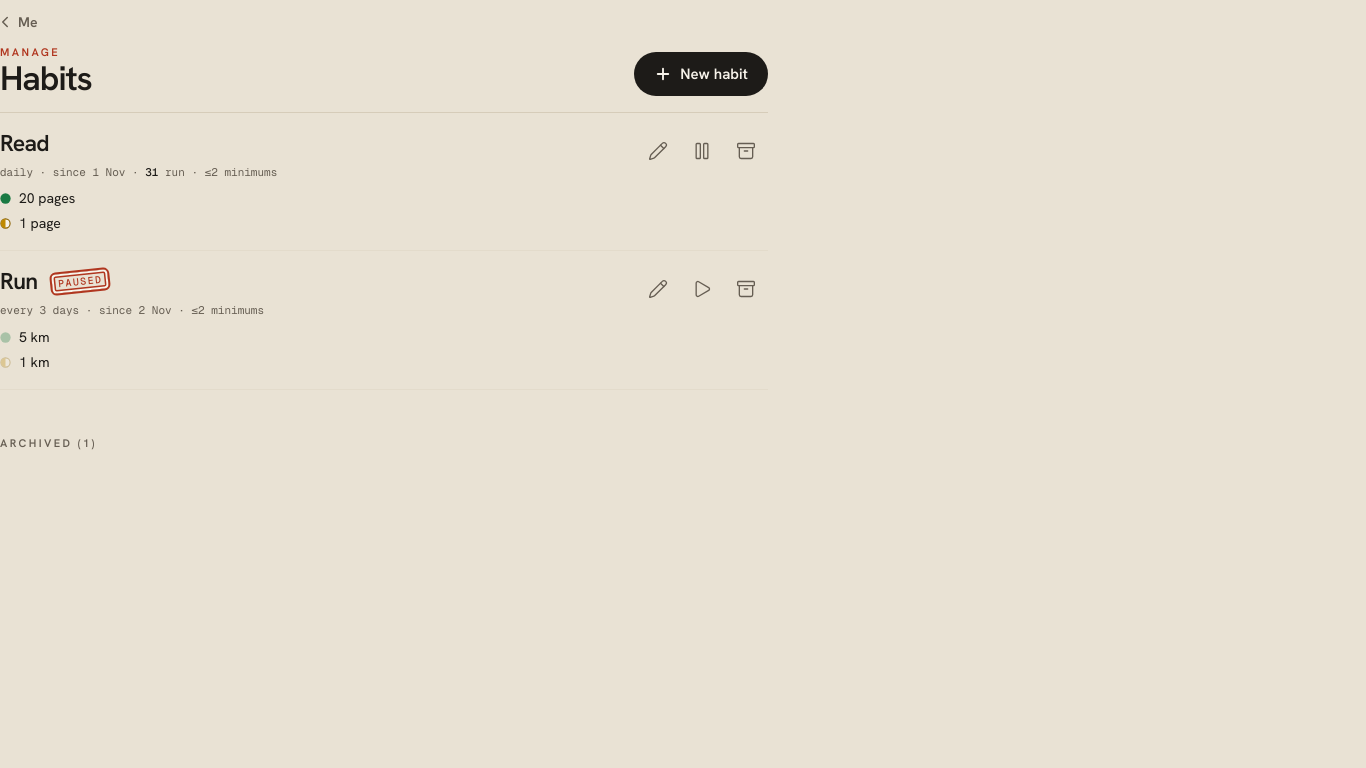
Test: HabitsPage › opens New habit in a sheet that Escape closes, handing focus back
Click the button "New habit": point(701, 74) [634,52,768,96]
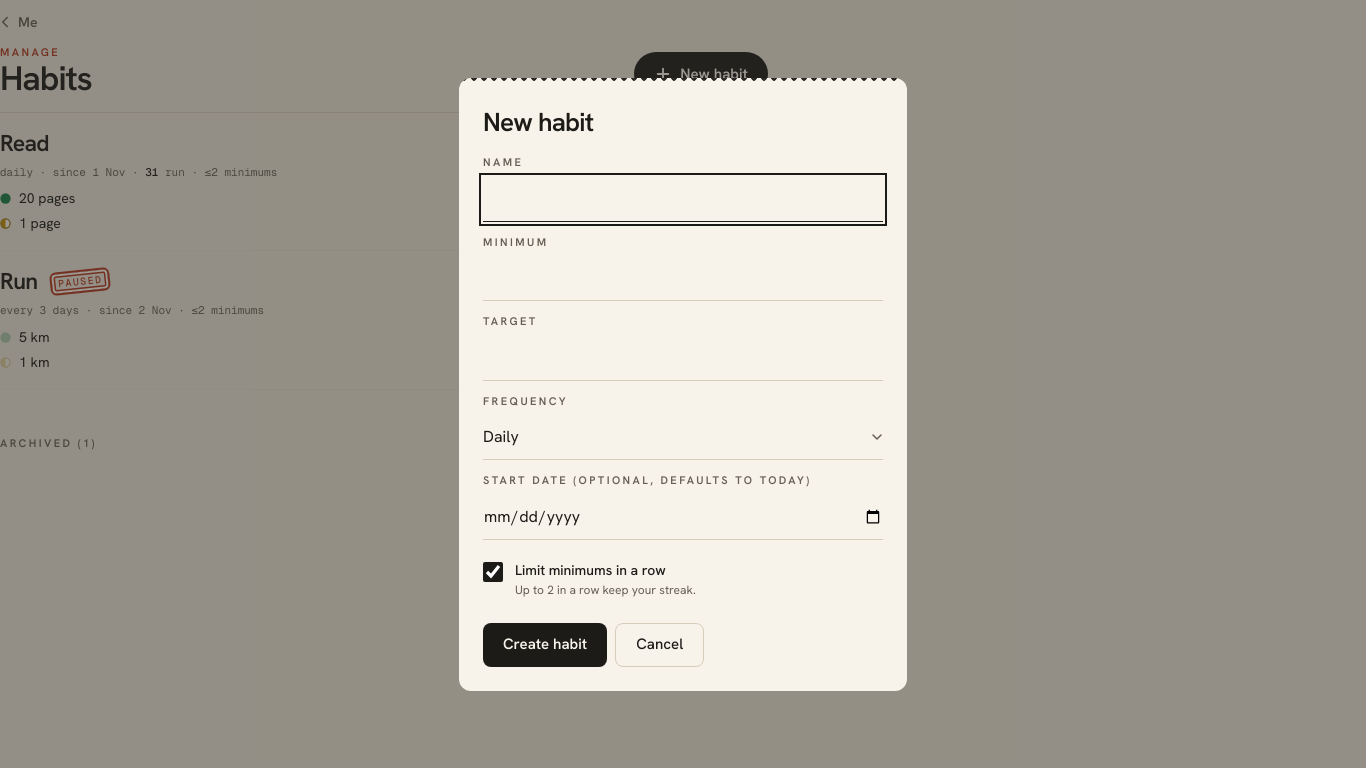
Press Escape
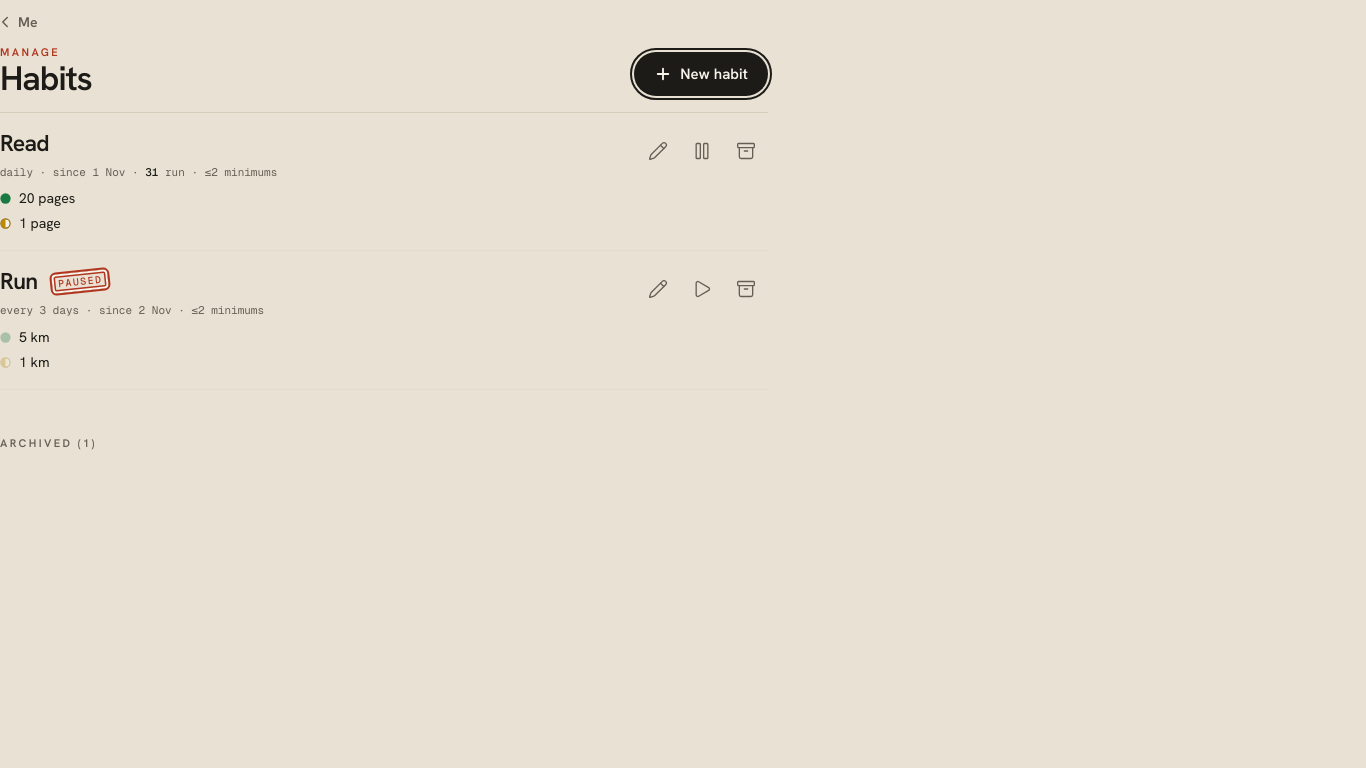
Expected: the dialog is gone
